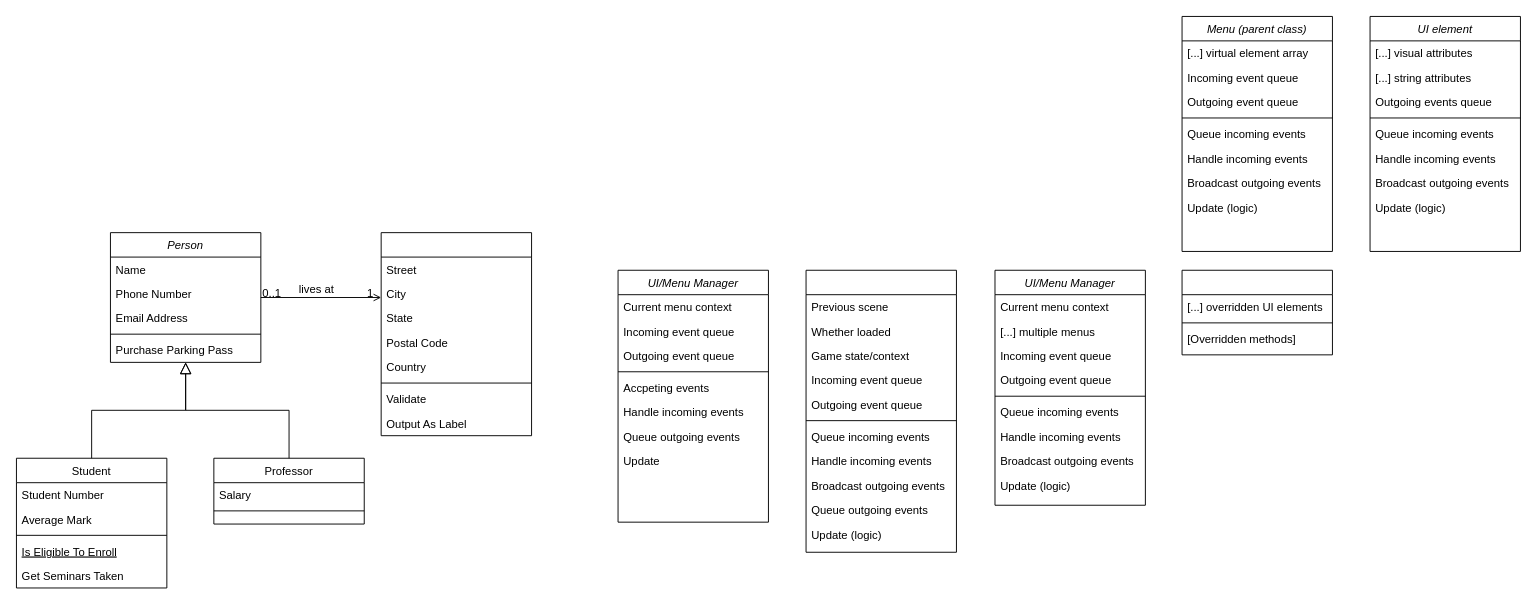
Some shapes in this 1537 by 607 pixel diagram are drawn without their labels. The shapes that lost their labels are listed below. From the top down, each one's box as (x1, y1, x2, y2) in pixels, then its label:
(1181, 269, 1332, 355): Menu(s) (dervied classes)
(380, 232, 532, 436): Address
(805, 269, 956, 552): Gamestate Manager
